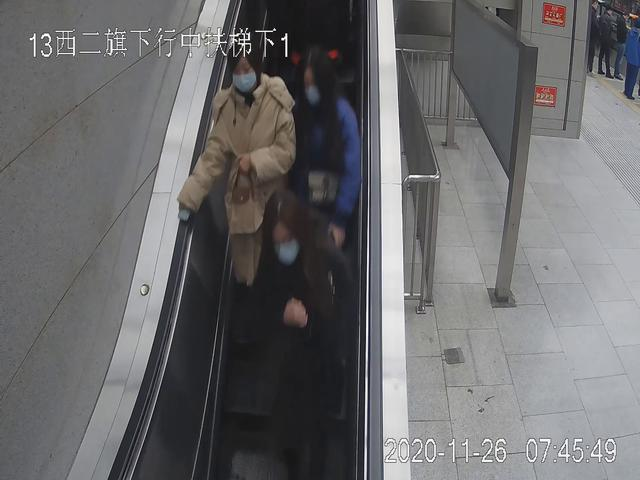person: (176, 44, 293, 332), (262, 192, 353, 480), (296, 50, 363, 327), (620, 20, 640, 101), (596, 6, 616, 76)
